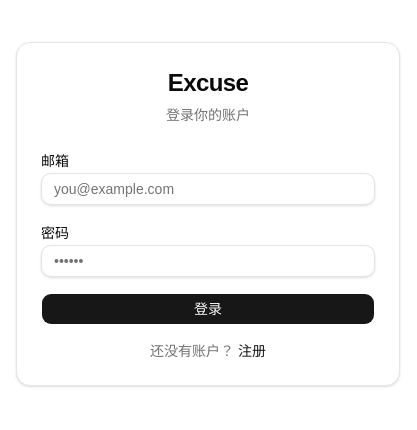
Scenario: login 页面 › 空表单提交显示验证错误
The width and height of the screenshot is (417, 430).
Click the button "登录" at coordinates (208, 309), box top-left (41, 293), bottom-right (375, 325)
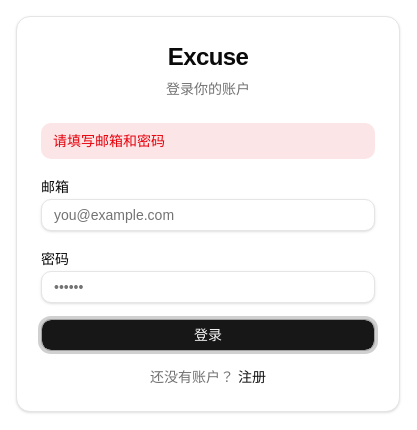
Result: the text "请填写邮箱和密码" is shown at top-left (41, 123), bottom-right (375, 159)
